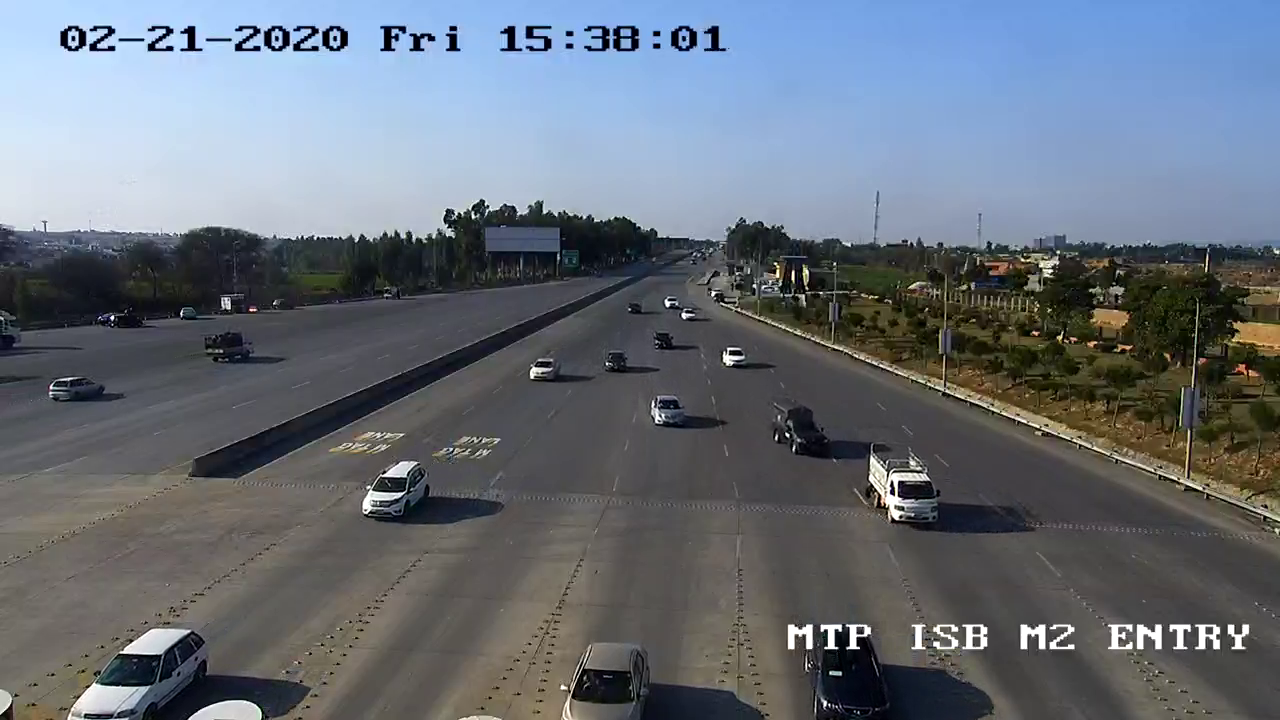f1: (49, 615, 222, 718), (343, 446, 442, 528), (760, 395, 835, 461), (642, 389, 691, 437), (519, 349, 566, 394)
f3: (849, 435, 954, 544)
